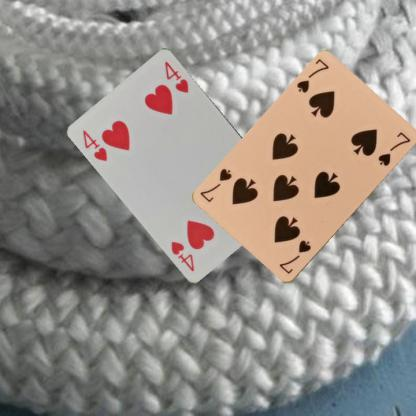4h: (80, 127, 110, 163)
7s: (294, 56, 331, 95), (276, 238, 313, 275)
